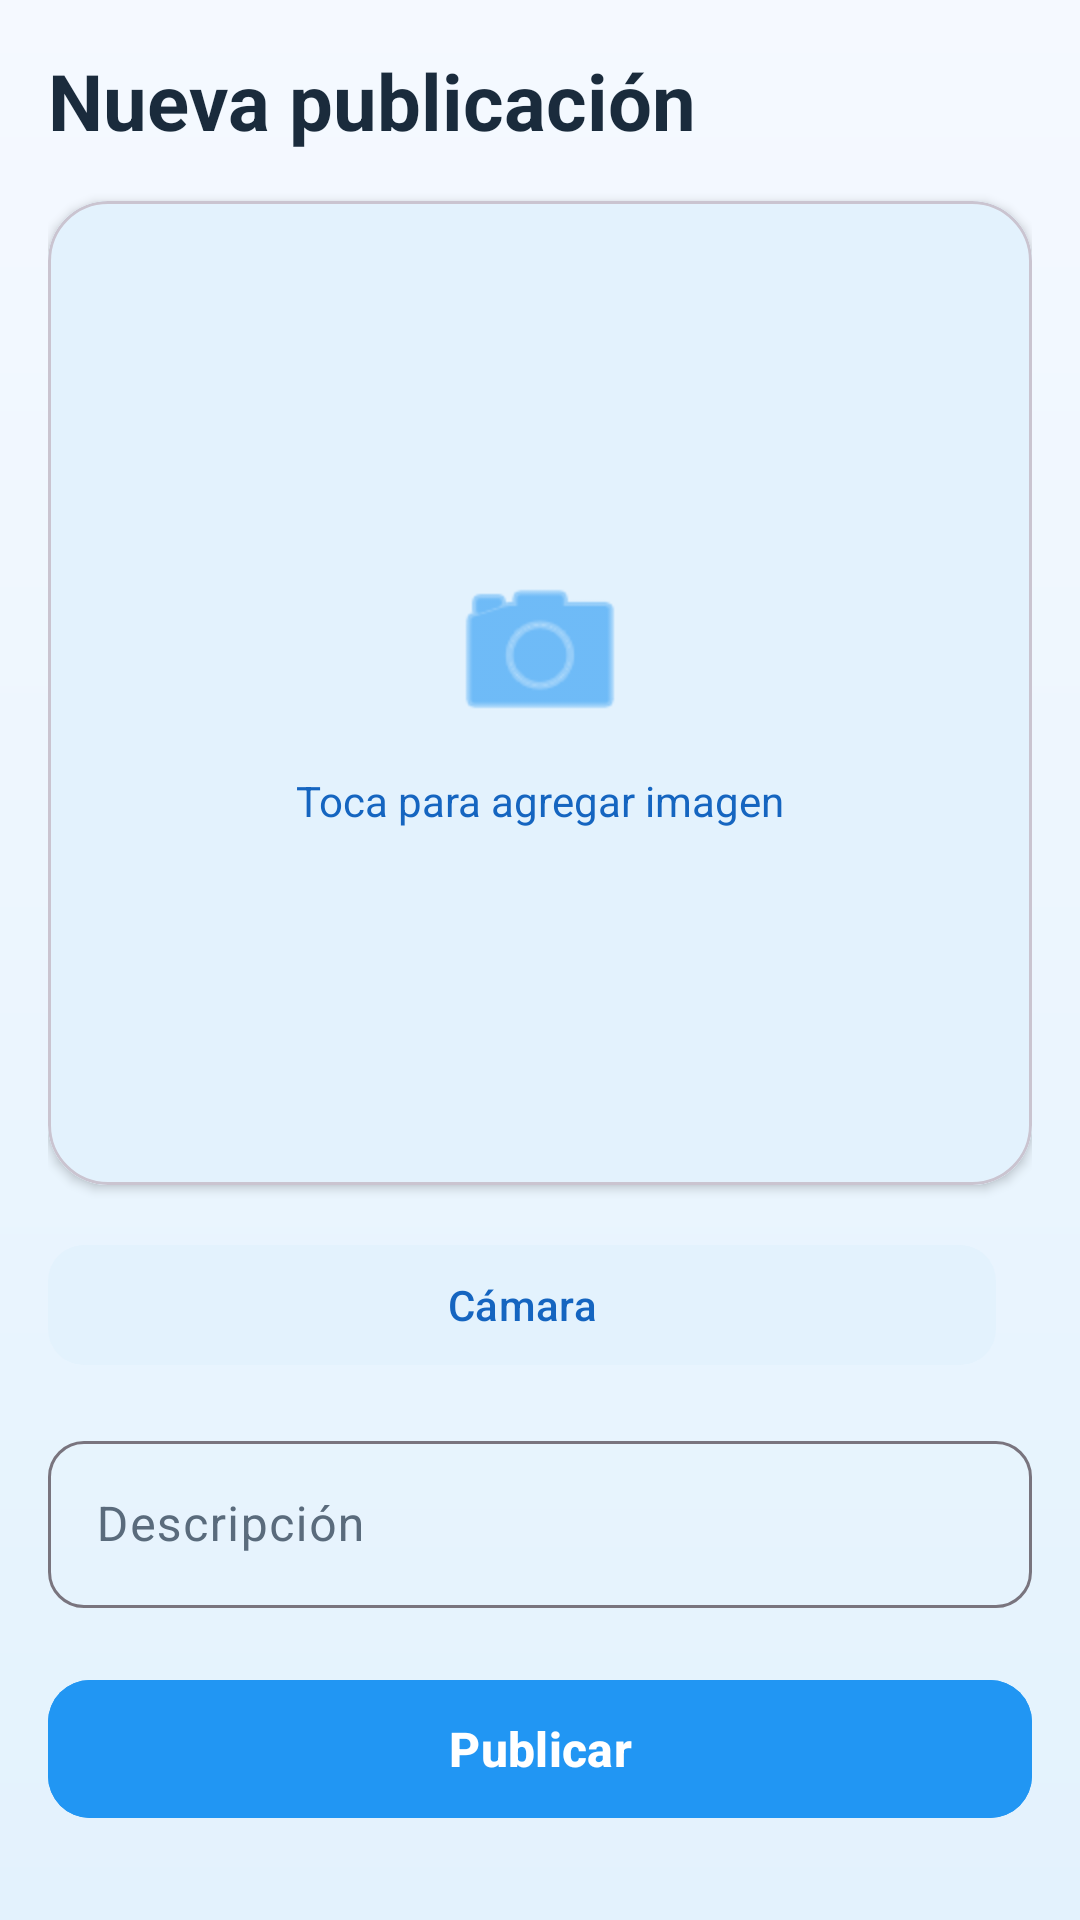

Where icons sit on this 1080*1920 app screen, as (x1, y1, x2, y2):
camera: (466, 590, 614, 708)
